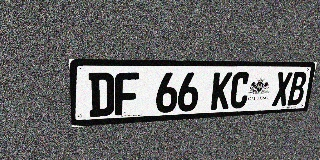6: (156, 72, 179, 113), (177, 72, 200, 112)
B: (287, 72, 308, 105)
C: (229, 72, 251, 109)
D: (88, 73, 114, 117)
F: (115, 72, 139, 116)
K: (210, 72, 233, 110)
X: (272, 72, 293, 106)
